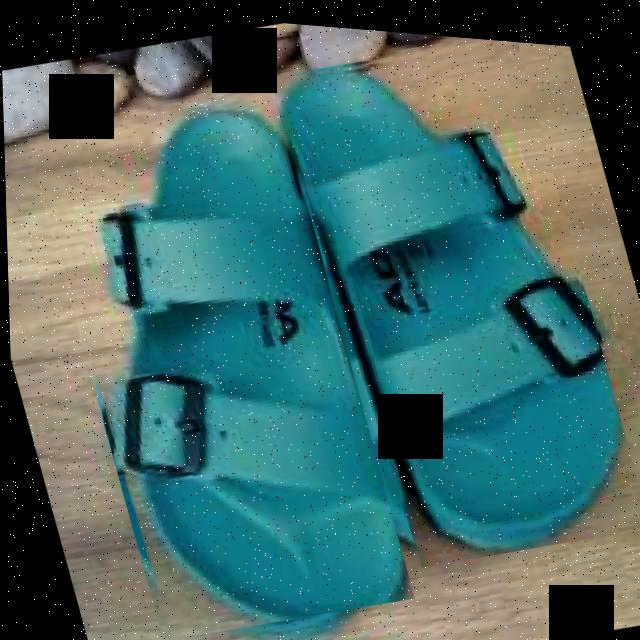shoe: (17, 1, 640, 640), (25, 74, 413, 640), (268, 17, 640, 579)
